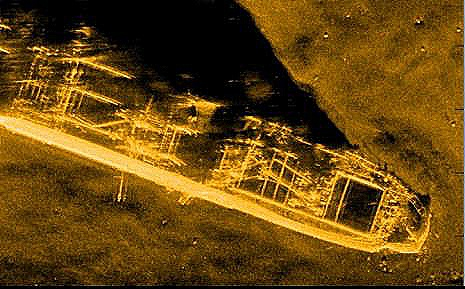ship: (1, 10, 432, 255)
